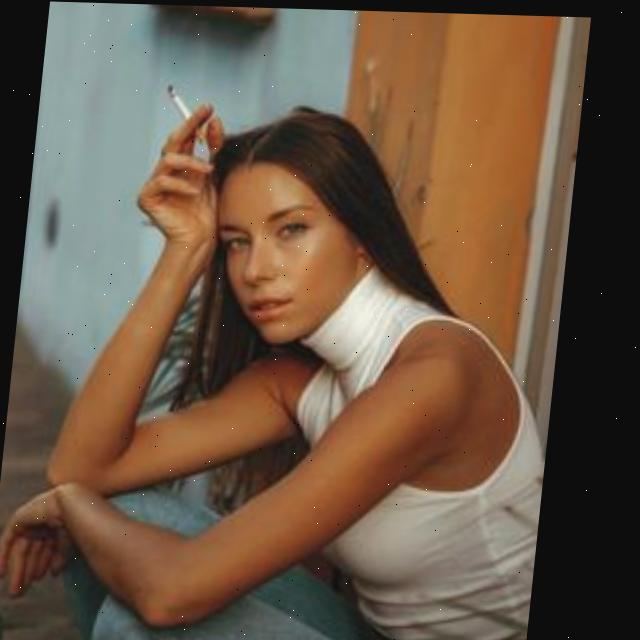cigarette: (166, 87, 211, 137)
